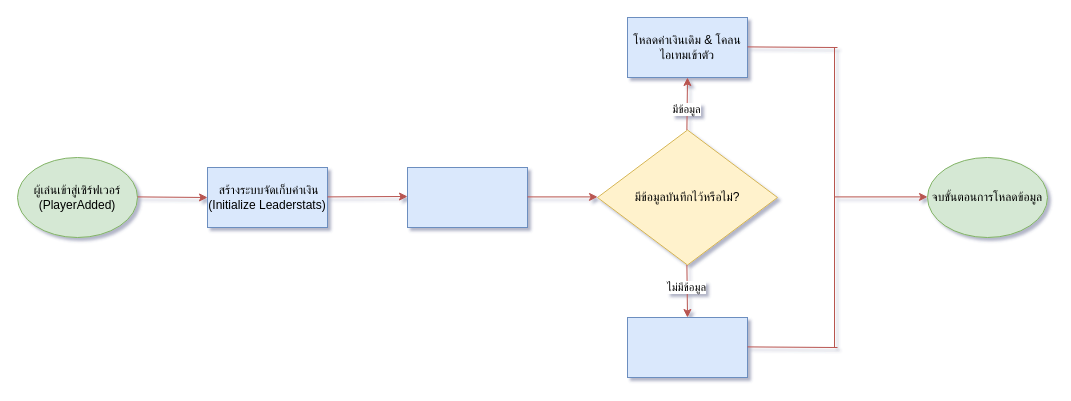
This 1071x401 diagram has some shape labels left out. The centre of each missing label's shape, as x and y in pixels:
"กำหนดค่าเงินเริ่มต้นเป็น 0" belongs at point (687, 347).
"ร้องขอข้อมูลจากฐานข้อมูล (DataStore:GetAsync)" belongs at point (467, 197).
